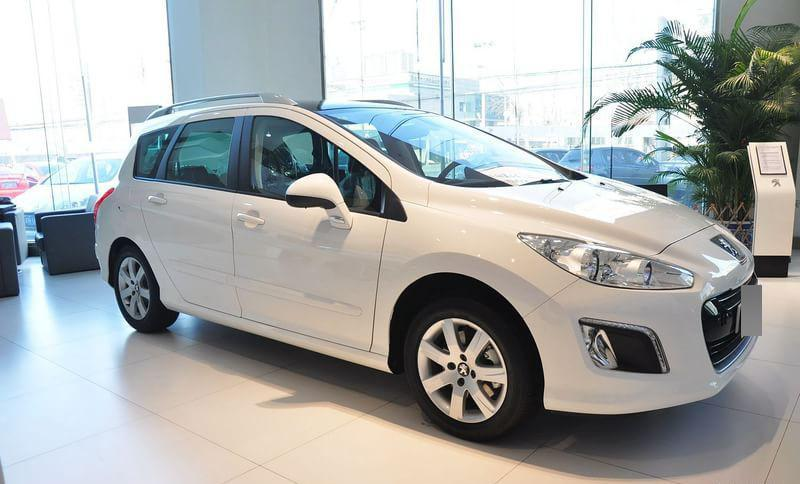Wagon: (91, 91, 761, 445)
